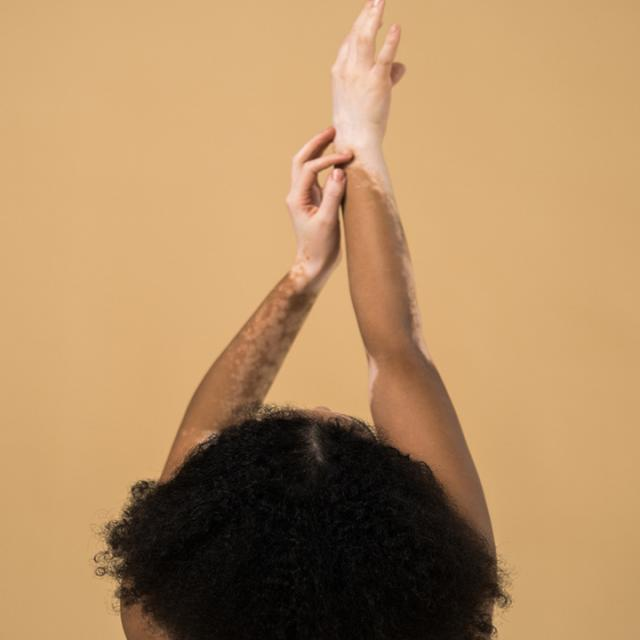vitiligo: (334, 53, 440, 412), (277, 167, 333, 315)
